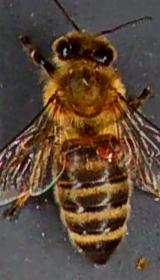varroa_mite: (86, 137, 128, 165)
